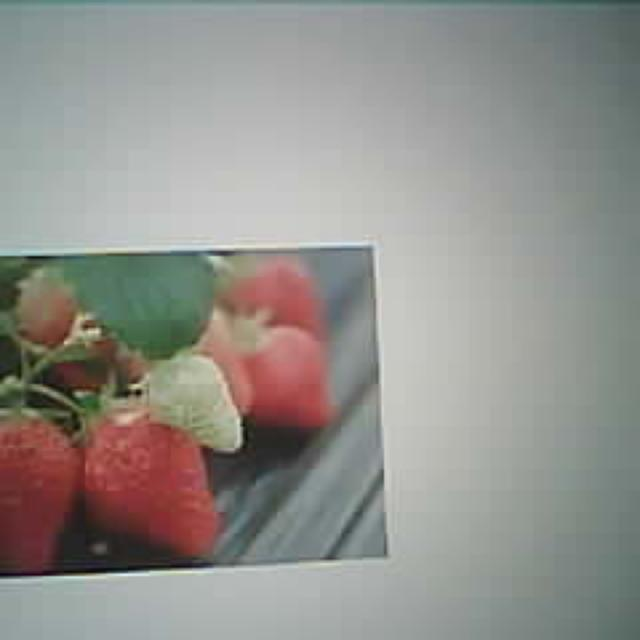ripe: (86, 409, 218, 554), (0, 405, 83, 575)
unripe: (147, 356, 243, 452)
